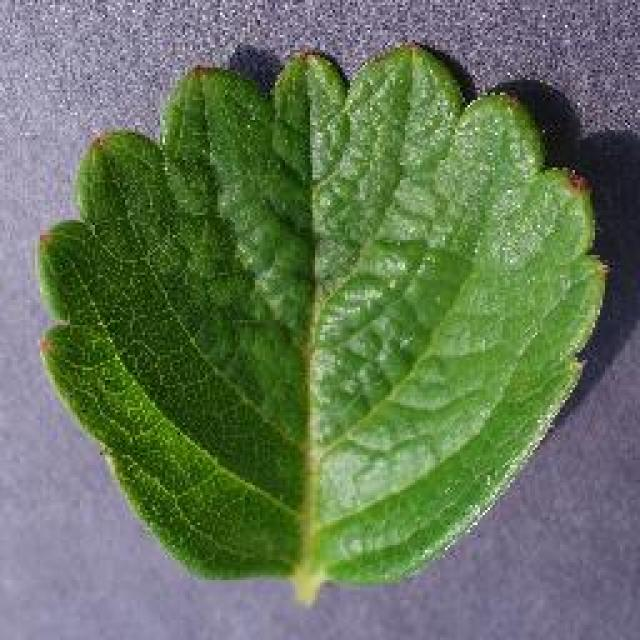Strawberry___healthy: (41, 107, 596, 604)
